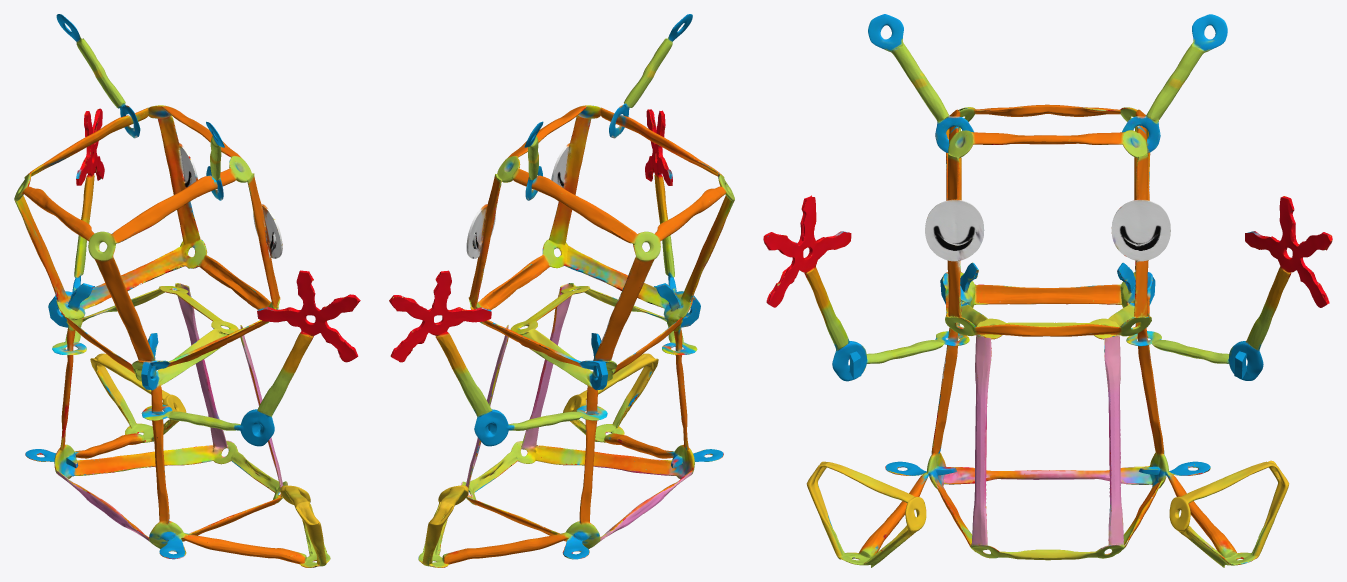
The model's file is stemify.glb.
The picture shows the model from 3 angles, left to right: view 1: azimuth 30°, elevation 25°; view 2: azimuth 150°, elevation 25°; view 3: azimuth 270°, elevation 25°; orthographic projection. The views are drawn at different scales.
Parts seen in each view (by area): view 1: tripo_part_19, tripo_part_31, tripo_part_32, tripo_part_0, tripo_part_29; view 2: tripo_part_19, tripo_part_31, tripo_part_32, tripo_part_0, tripo_part_29; view 3: tripo_part_19, tripo_part_32, tripo_part_31, tripo_part_0, tripo_part_29.
Boxes of the visible parts, box(x1,y1,x2,y2) form: tripo_part_19: box(14, 105, 287, 559); tripo_part_31: box(75, 144, 330, 567); tripo_part_32: box(52, 142, 313, 452); tripo_part_0: box(76, 108, 360, 362); tripo_part_29: box(56, 14, 224, 200); tripo_part_19: box(461, 105, 734, 559); tripo_part_31: box(418, 143, 674, 567); tripo_part_32: box(435, 143, 697, 519); tripo_part_0: box(389, 109, 672, 362); tripo_part_29: box(524, 14, 692, 200); tripo_part_19: box(885, 104, 1210, 560); tripo_part_32: box(804, 194, 1291, 520); tripo_part_31: box(806, 199, 1289, 567); tripo_part_0: box(763, 195, 1332, 307); tripo_part_29: box(868, 14, 1227, 152).
Bounding box in the file's own units: 0.4643 × 0.9697 × 1.
5 materials, 5 textured.
